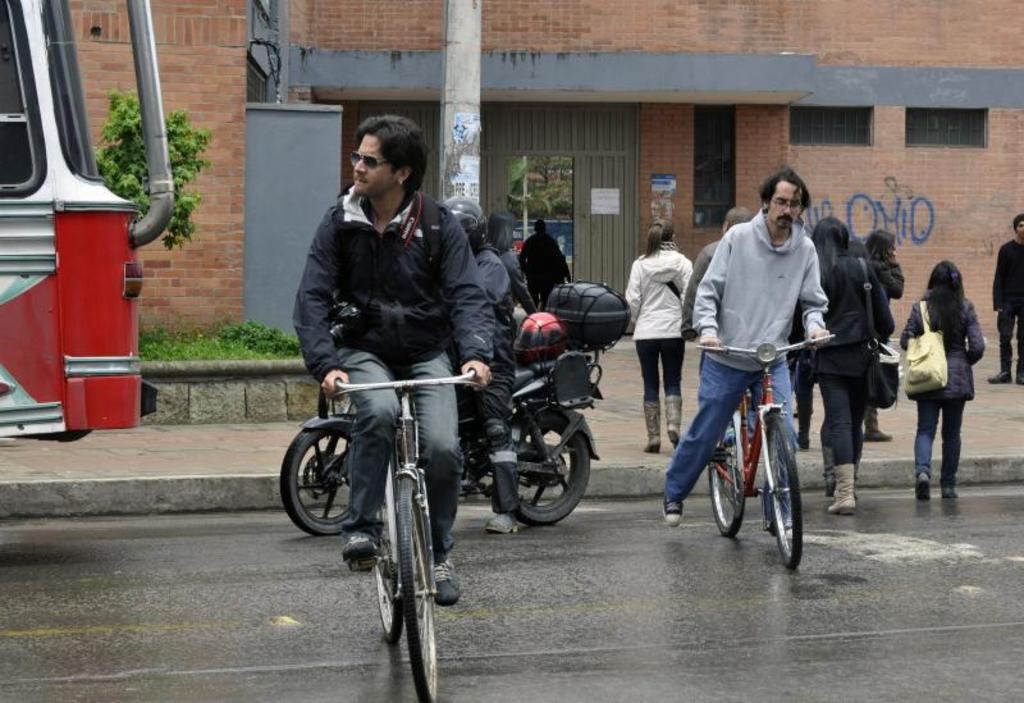Bike_toward: (327, 367, 491, 703), (693, 333, 849, 572)
